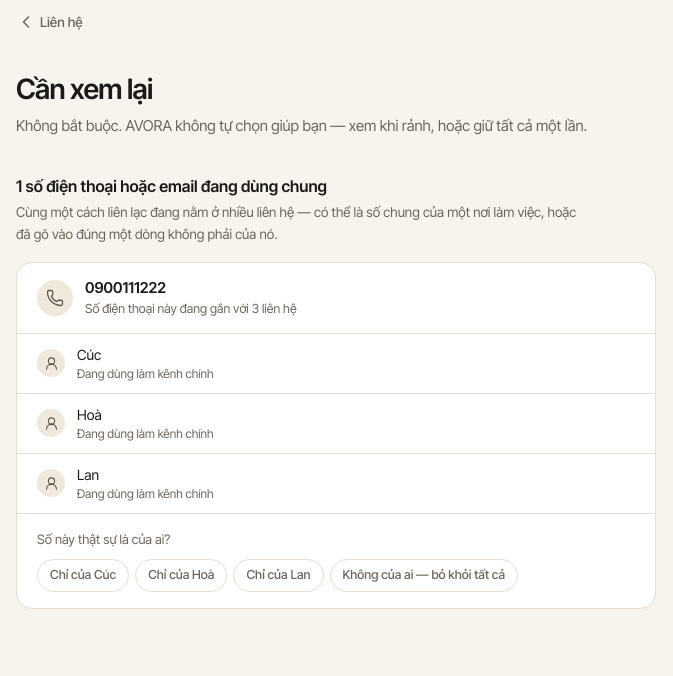
Test: one contact refusing does not stop the others, and is named
Click the button "Chỉ của Hoà" at x=181, y=575, box [135,559,227,592]
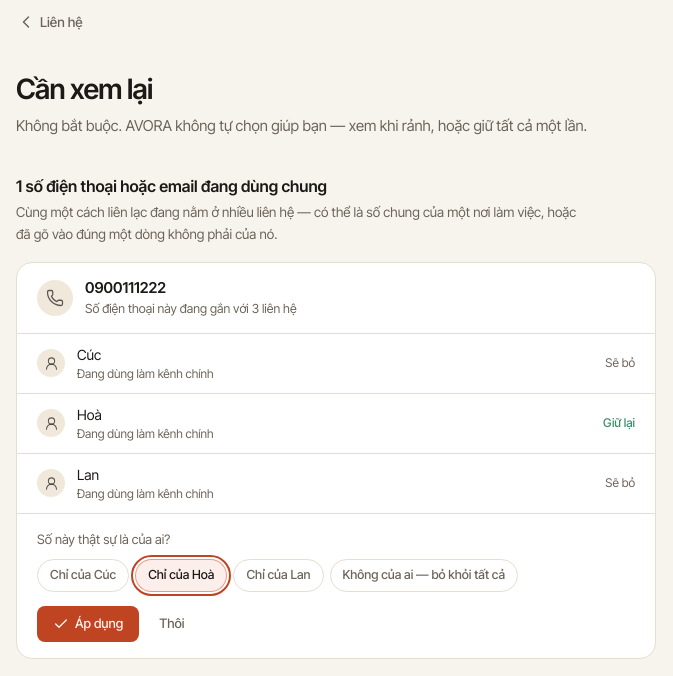
Click the button "Áp dụng" at x=88, y=624, box [37,606,139,642]
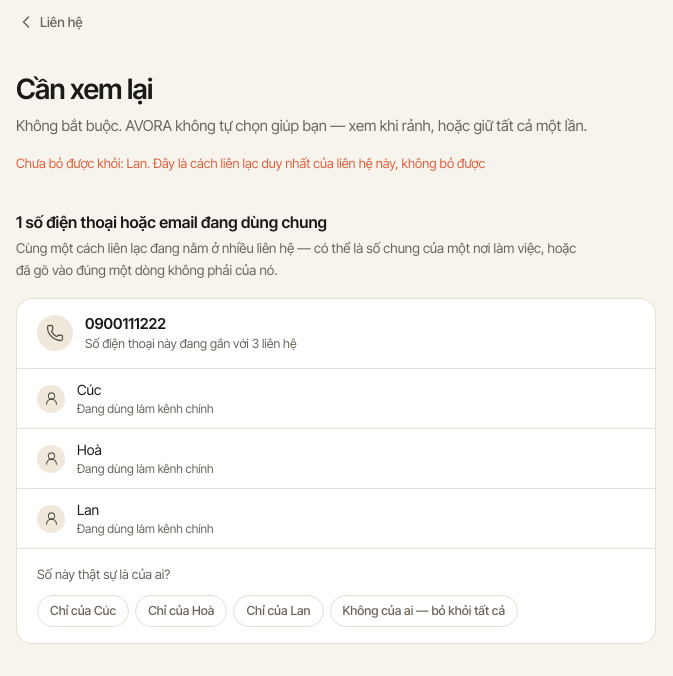
Expected: the message shows "Lan", [16,155,485,171]
Expected: the message shows "duy nhất", [16,155,485,171]
